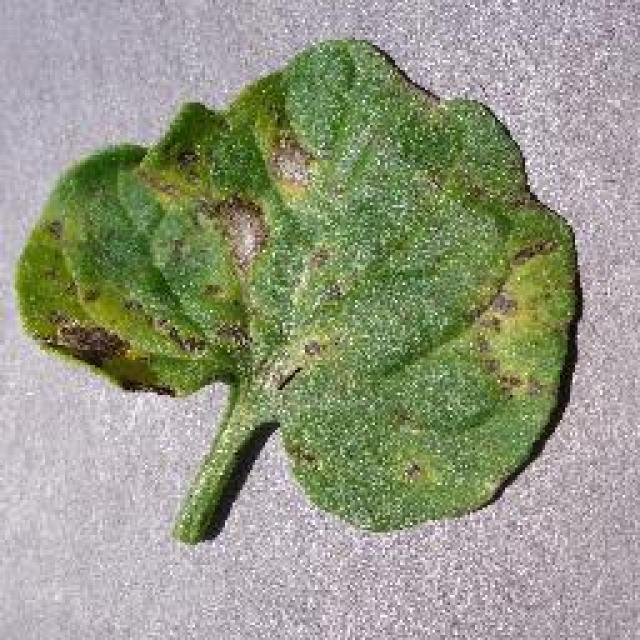Tomato Septoria spot leaf: (22, 37, 580, 530)
